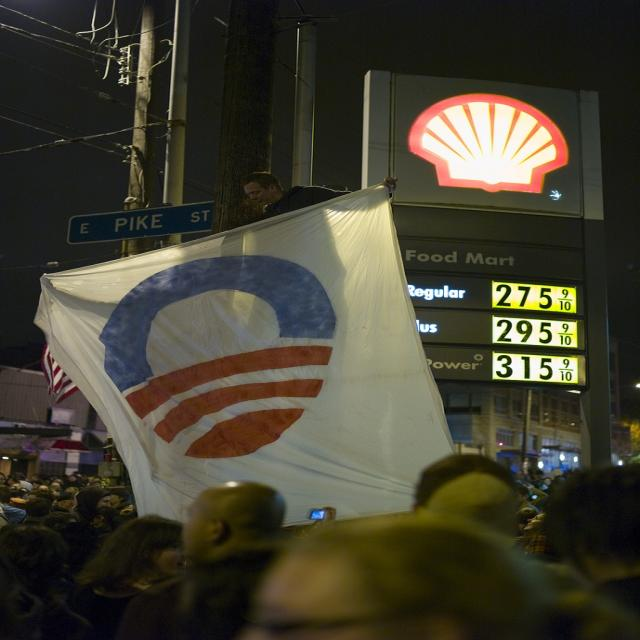shell: (407, 95, 574, 196)
